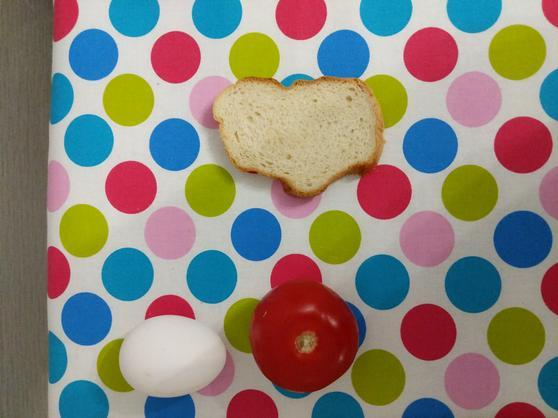egg: (111, 304, 232, 399)
tomato: (245, 275, 368, 403)
white_bread: (202, 66, 394, 196)
